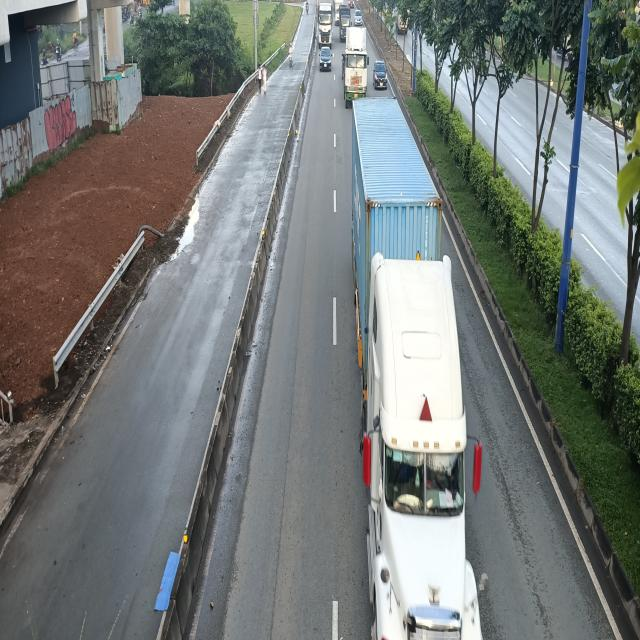car: (374, 59, 390, 90), (320, 46, 332, 72), (353, 9, 364, 25)
container: (351, 93, 483, 637), (342, 27, 370, 103)
truck: (318, 1, 333, 46)
